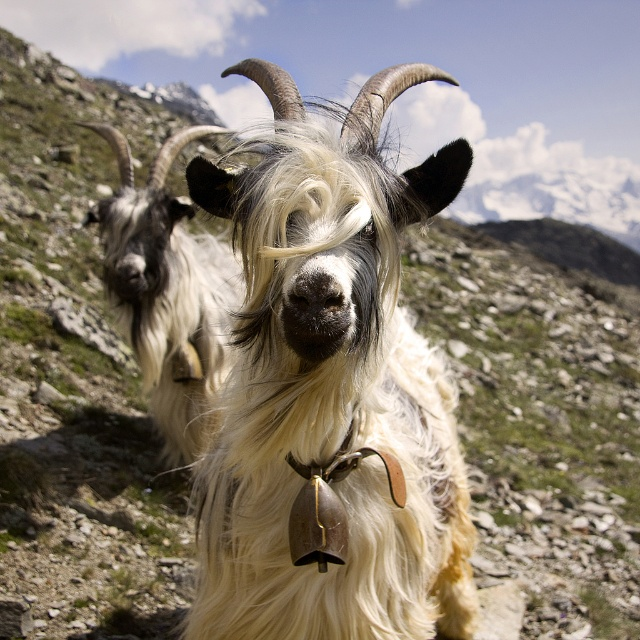Goat: (96, 60, 483, 640)
